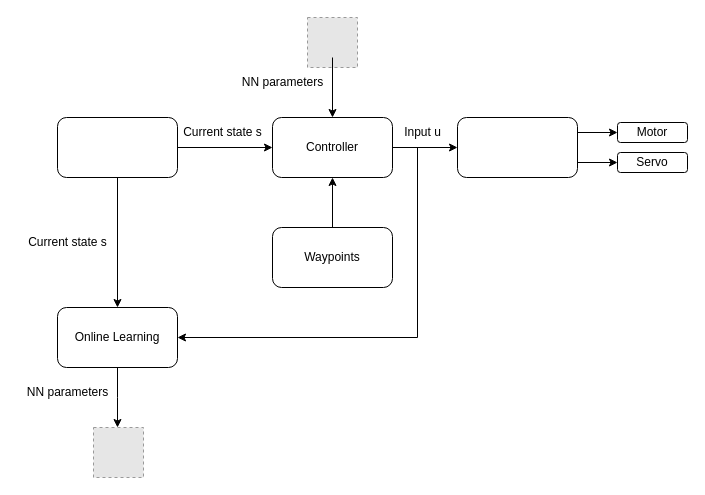
Image size: 705x495. Some labels were removed from this diagram. Grey dashed boxes stand in for pictures. Here are the shapes that lost their labels. From the top down, the centre of each, then its label:
pixel 117 147: State estimation
pixel 517 147: VESC
